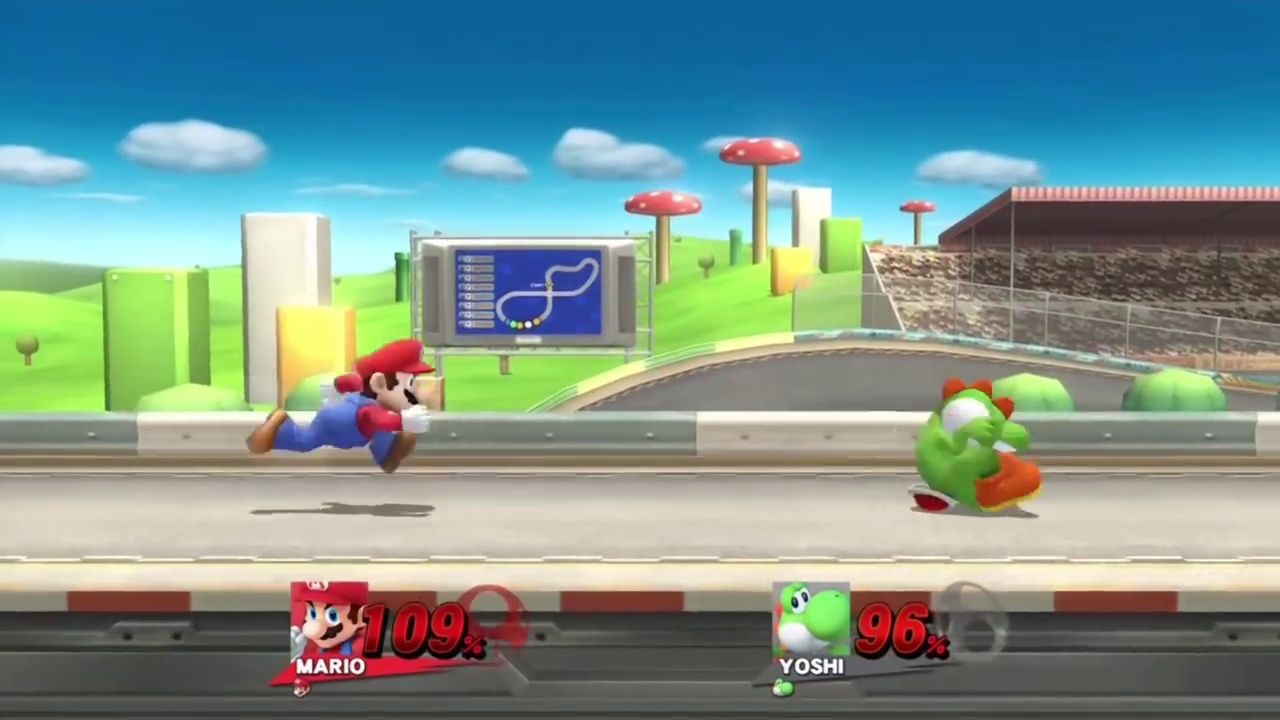Mario: (247, 340, 441, 477)
